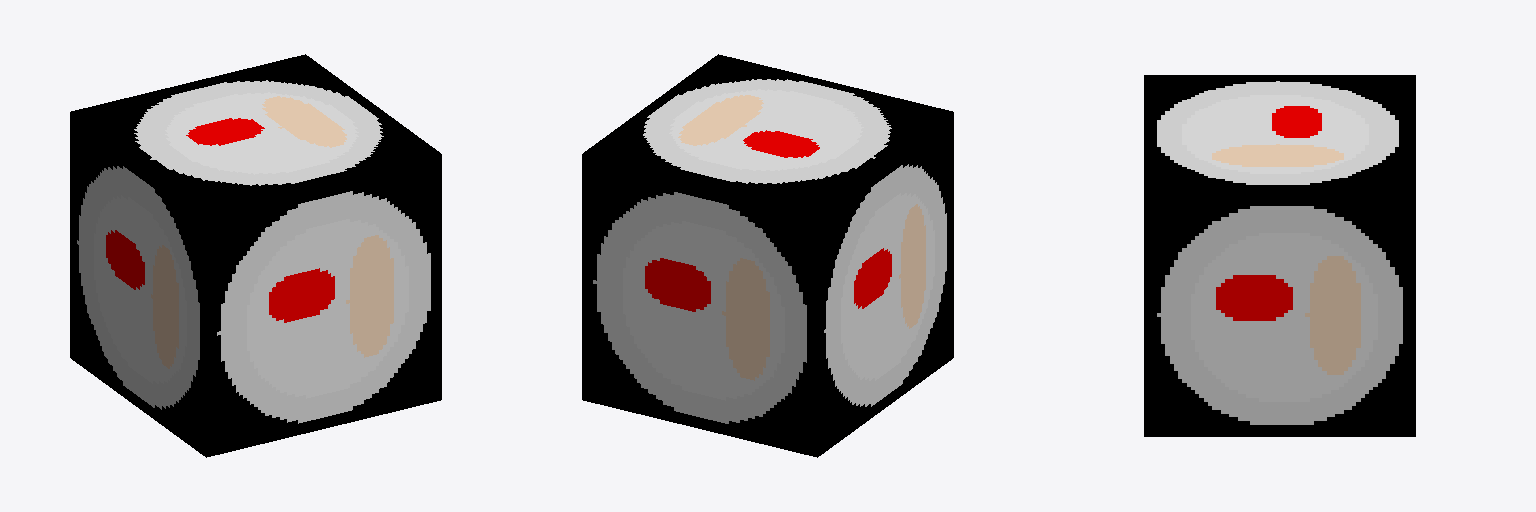
3 renders of one model, left to right at view 1: azimuth 30°, elevation 25°; view 2: azimuth 150°, elevation 25°; view 3: azimuth 270°, elevation 25°, orthographic.
Parts seen in each view (by area): view 1: plate-cooked; view 2: plate-cooked; view 3: plate-cooked.
Boxes of the visible parts, x1,y1,x2,y2 form: plate-cooked: [70, 54, 441, 457]; plate-cooked: [582, 54, 953, 457]; plate-cooked: [1144, 75, 1415, 436].
Size of the model in its own units: 1 by 1 by 1.
1 materials, 1 textured.